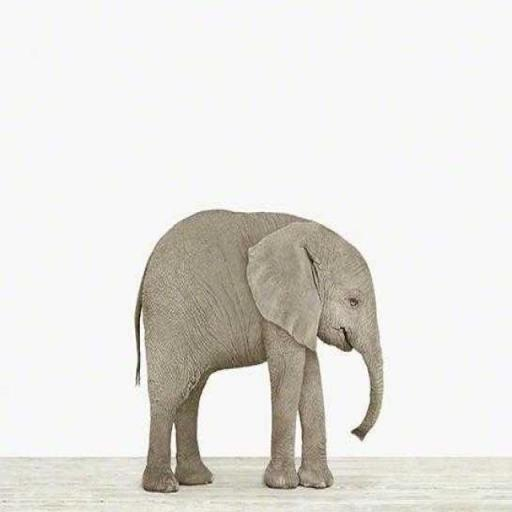Elephant: (134, 206, 384, 492)
